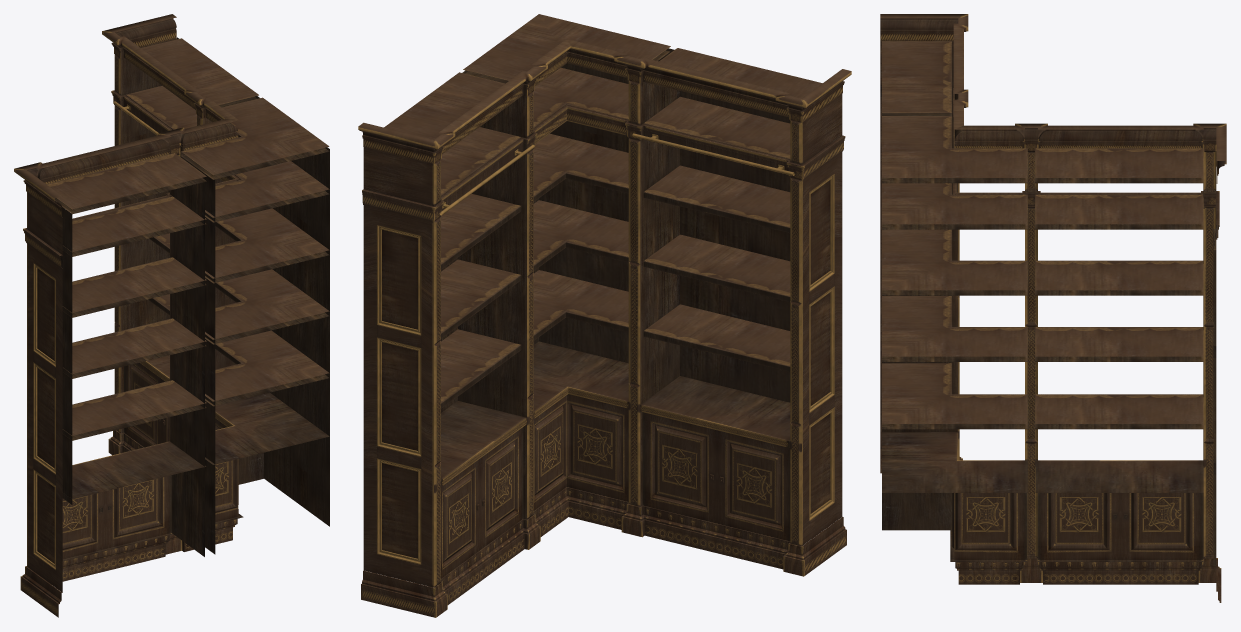
Rendered from SM_Bookshelf_Inward.fbx.
3 views of the same model, side by side, from view 1: azimuth 30°, elevation 25°; view 2: azimuth 150°, elevation 25°; view 3: azimuth 270°, elevation 25° (orthographic). The views are drawn at different scales.
Visible parts, largest first — view 1: SM_Bookshelf_Inward_LOD0; view 2: SM_Bookshelf_Inward_LOD0; view 3: SM_Bookshelf_Inward_LOD0.
Boxes of the visible parts, box(x1,y1,x2,y2) form: SM_Bookshelf_Inward_LOD0: box(14, 14, 329, 617); SM_Bookshelf_Inward_LOD0: box(358, 14, 851, 617); SM_Bookshelf_Inward_LOD0: box(880, 14, 1226, 602).
Size of the model in its own units: 259 by 258 by 375.
1 material, 1 textured.
